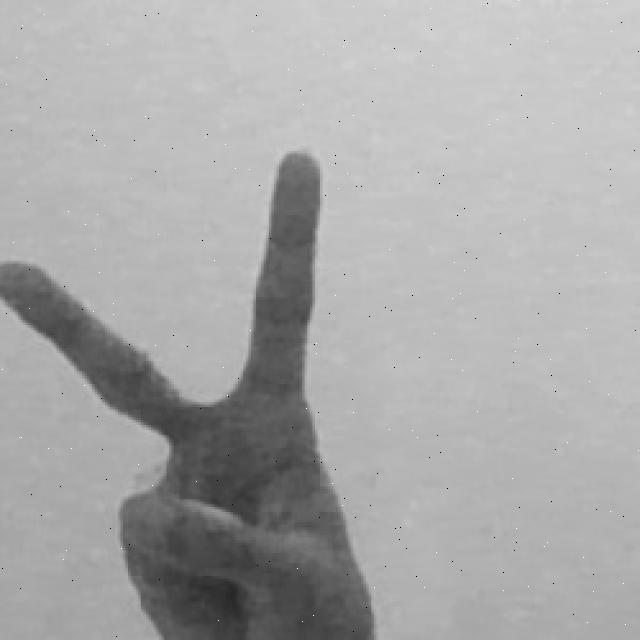V: (0, 141, 381, 640)
